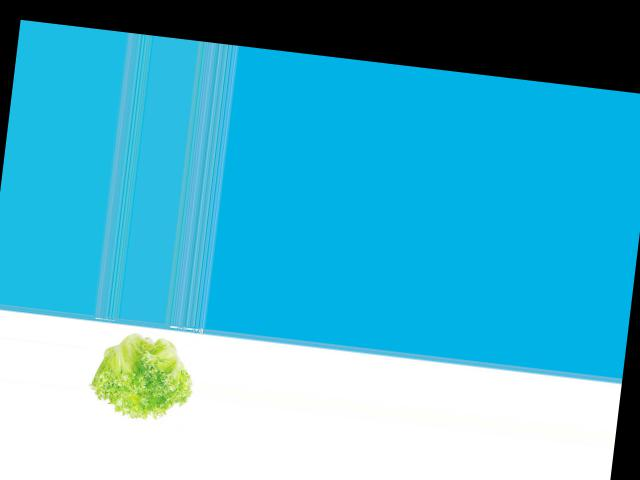lettuce: (89, 323, 198, 427)
